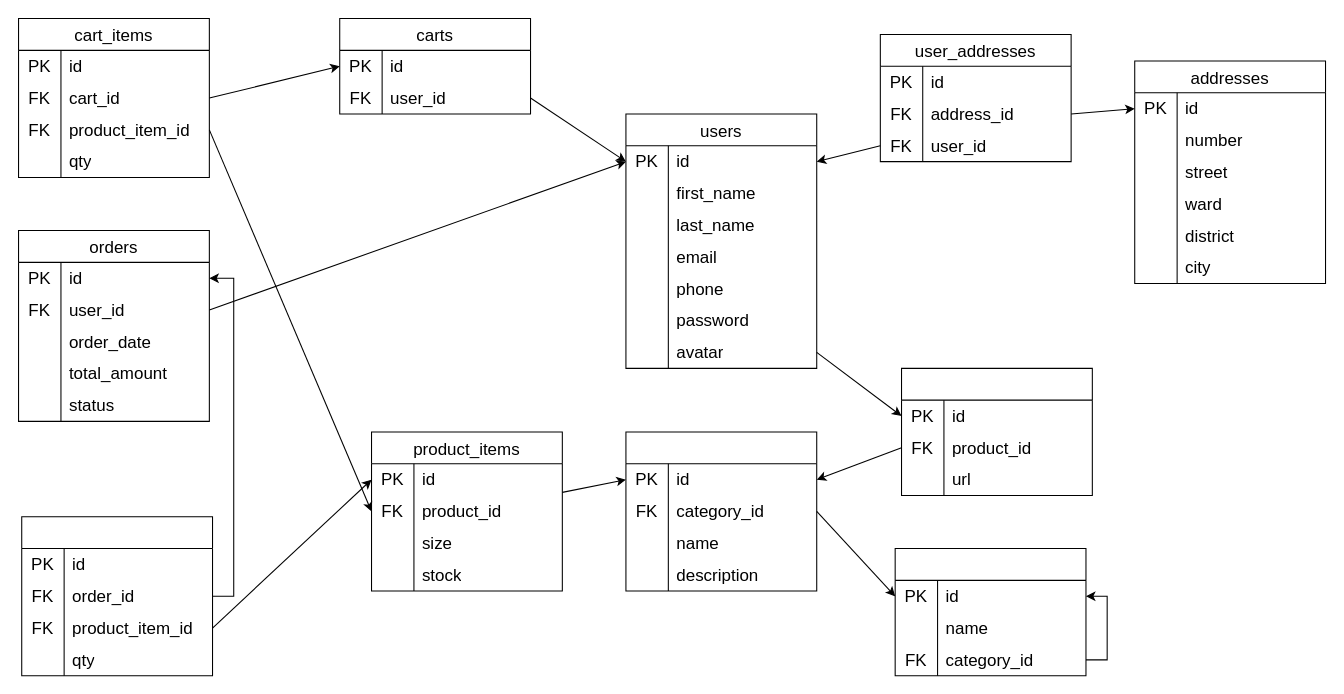
Some shapes in this 1344 by 694 pixel diagram are drawn without their labels. Here are the shapes that lost their labels. From the top down, the box of each, then its label:
(900, 367, 1092, 496): images
(625, 431, 817, 591): products
(21, 516, 213, 676): order_items
(894, 547, 1086, 676): categories
